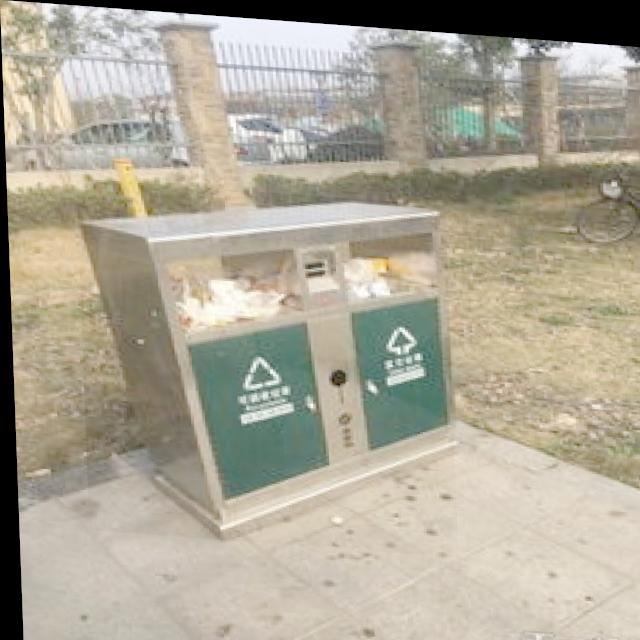overflow: (75, 177, 454, 551)
